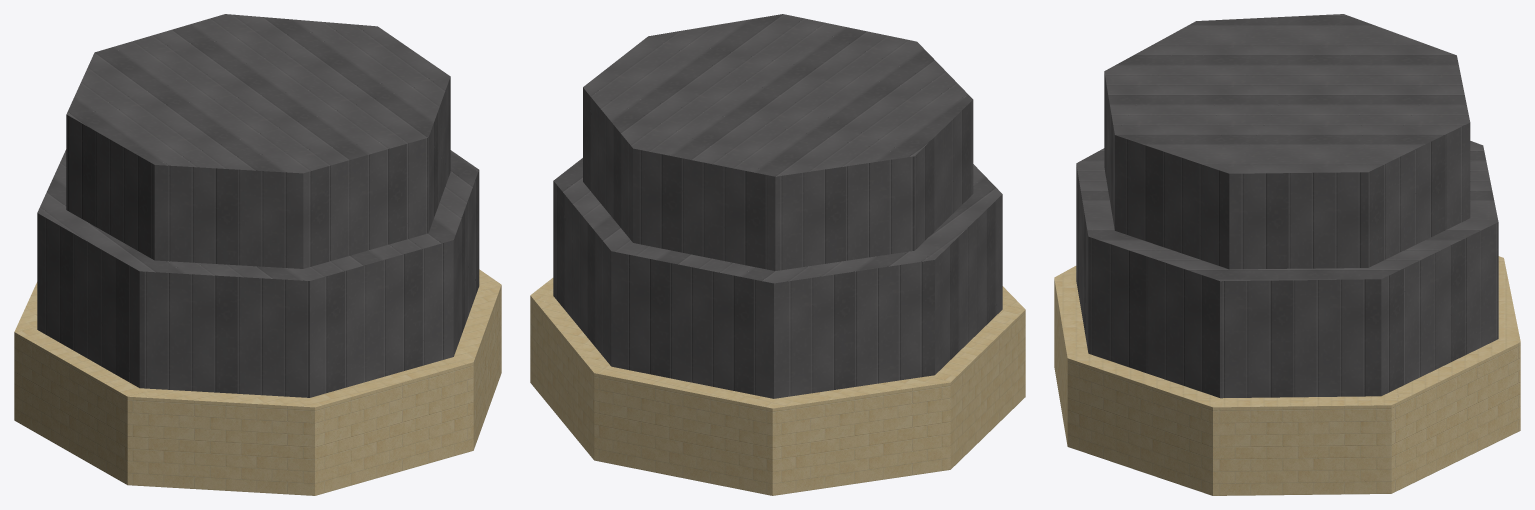
3 renders of one model, left to right at view 1: azimuth 30°, elevation 25°; view 2: azimuth 150°, elevation 25°; view 3: azimuth 270°, elevation 25°, orthographic.
Parts seen in each view (by area): view 1: lmbase_117235287_roof_b, lmbase_117235287_roof_a, lmbase_117235287; view 2: lmbase_117235287_roof_b, lmbase_117235287_roof_a, lmbase_117235287; view 3: lmbase_117235287_roof_b, lmbase_117235287_roof_a, lmbase_117235287.
Boxes of the visible parts, x1,y1,x2,y2 form: lmbase_117235287_roof_b: [66, 14, 450, 268]; lmbase_117235287_roof_a: [37, 149, 479, 397]; lmbase_117235287: [14, 269, 501, 495]; lmbase_117235287_roof_b: [583, 14, 973, 270]; lmbase_117235287_roof_a: [553, 158, 1002, 398]; lmbase_117235287: [530, 278, 1025, 495]; lmbase_117235287_roof_b: [1104, 14, 1470, 269]; lmbase_117235287_roof_a: [1076, 141, 1498, 398]; lmbase_117235287: [1054, 256, 1520, 495].
Bounding box in the file's own units: 12.23 × 8.5 × 11.93.
2 materials, 2 textured.
